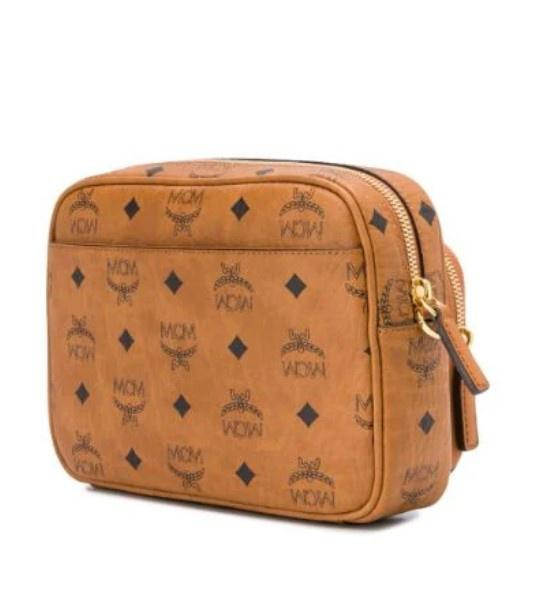MCM: (57, 149, 466, 525)
